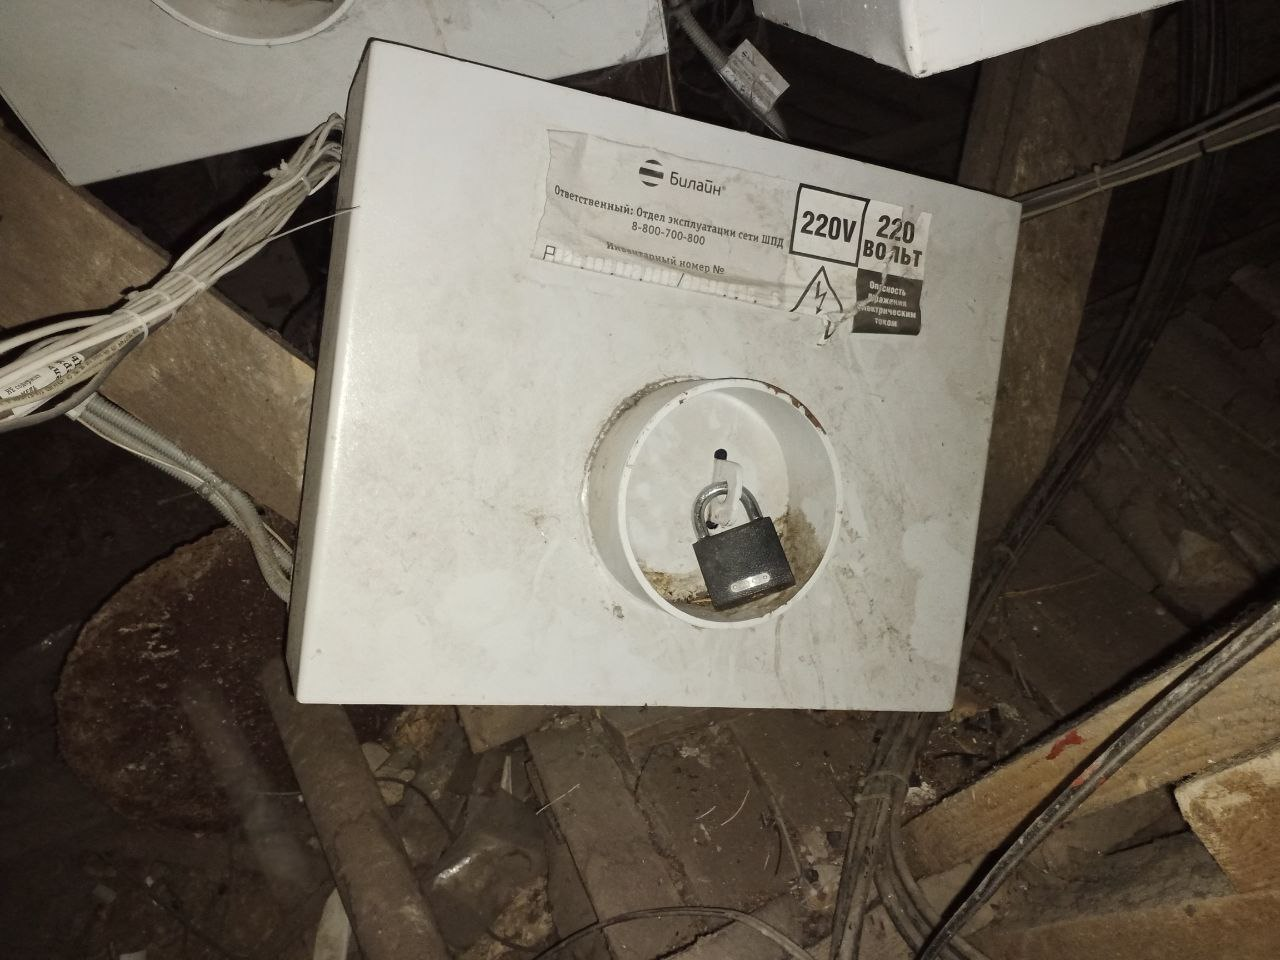shta-3: (278, 38, 1028, 713)
